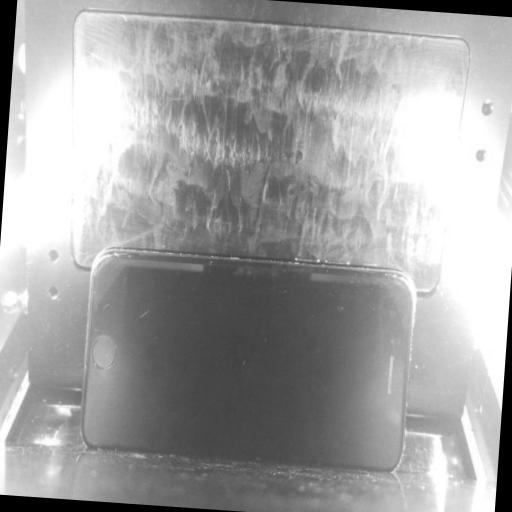phone: (79, 250, 414, 476)
